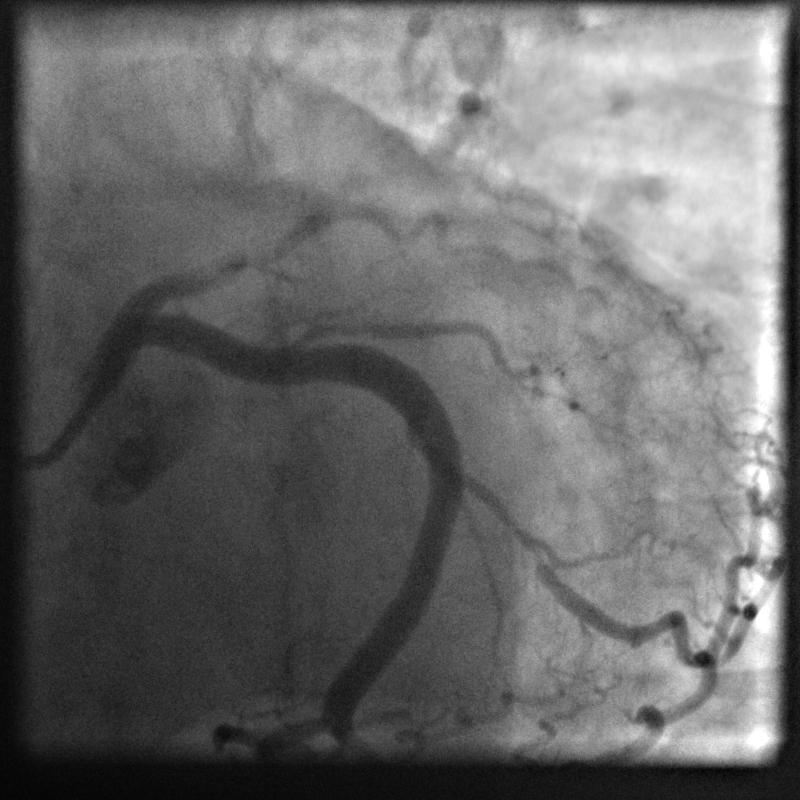Stenosis: (448, 447, 562, 576)
